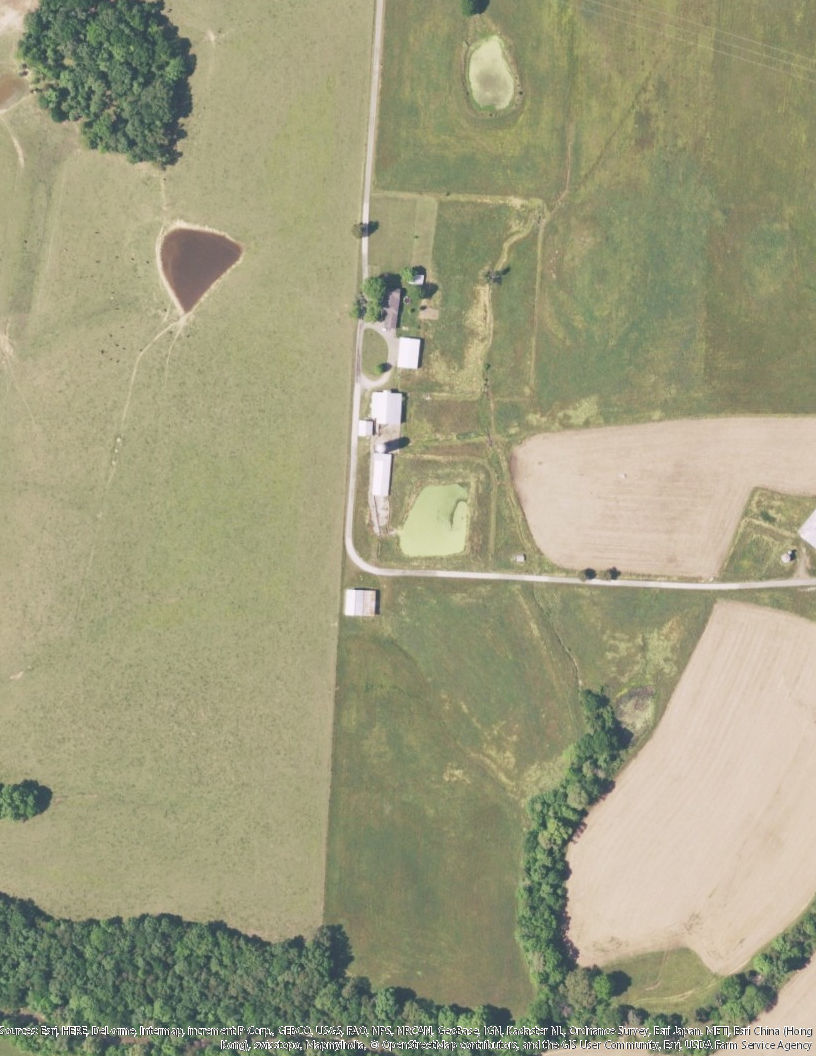cafo: (367, 441, 398, 500), (369, 386, 407, 428), (341, 583, 381, 618), (390, 333, 423, 374)
